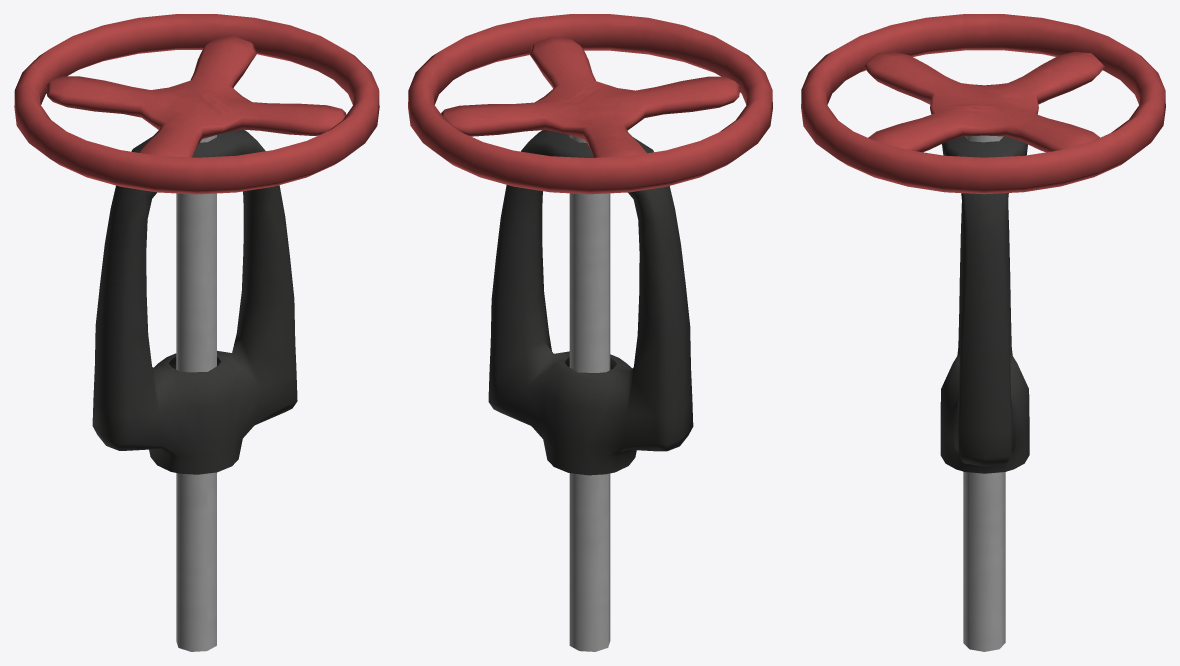
File: Afsluiter.fbx
3 renders of one model, left to right at view 1: azimuth 30°, elevation 25°; view 2: azimuth 150°, elevation 25°; view 3: azimuth 270°, elevation 25°, orthographic.
Parts seen in each view (by area): view 1: Cylinder.005; view 2: Cylinder.005; view 3: Cylinder.005.
Boxes of the visible parts, x1,y1,x2,y2 form: Cylinder.005: (14,14,379,651); Cylinder.005: (408,14,772,651); Cylinder.005: (801,14,1165,651).
Size of the model in its own units: 42.36 by 71.51 by 42.41.
